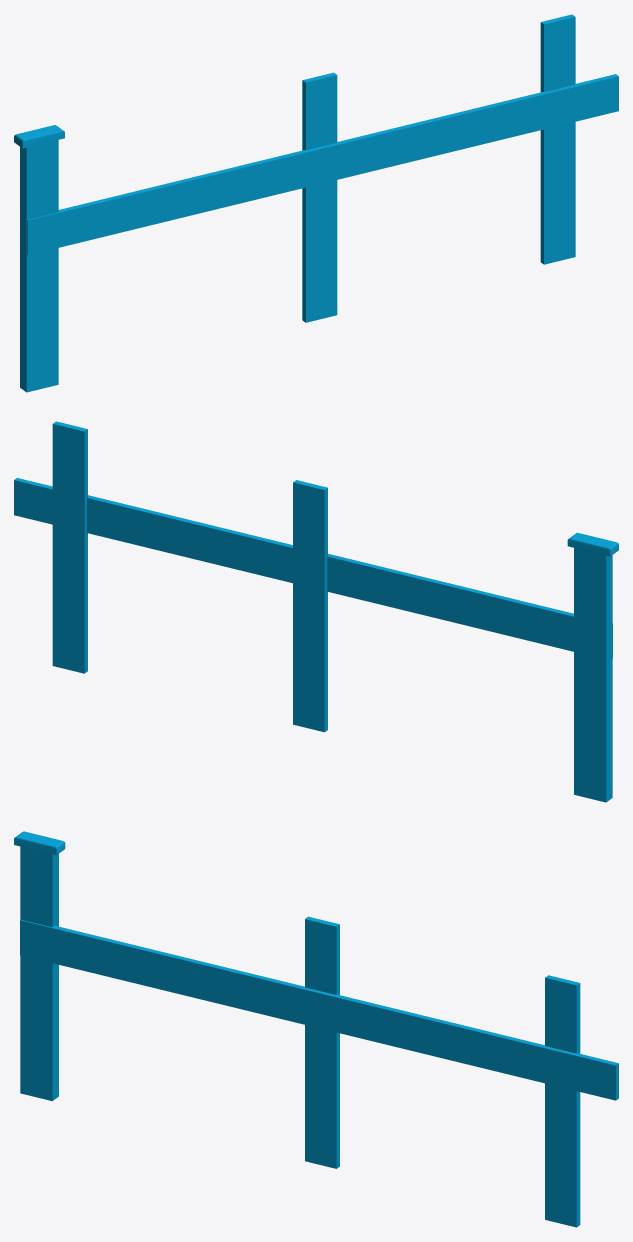
File: Garden_Fence_01B_Lod1.fbx
3 renders of one model, top to bottom at view 1: azimuth 30°, elevation 25°; view 2: azimuth 150°, elevation 25°; view 3: azimuth 330°, elevation 25°, orthographic.
Parts seen in each view (by area): view 1: Garden_Fence_01B_Lod1; view 2: Garden_Fence_01B_Lod1; view 3: Garden_Fence_01B_Lod1.
Part boxes in pixels (x1,y1,x2,y2): Garden_Fence_01B_Lod1: (14,14,618,392); Garden_Fence_01B_Lod1: (14,421,618,802); Garden_Fence_01B_Lod1: (14,831,618,1227).
Size of the model in its own units: 309 by 126 by 7.77.
